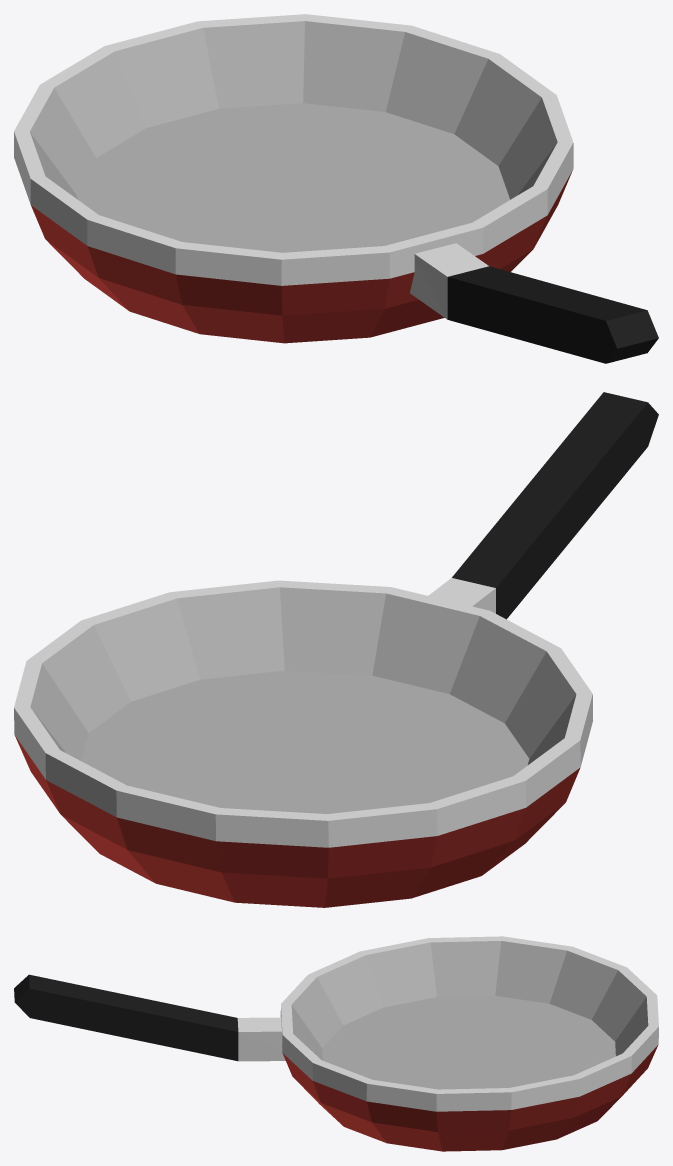
The model's file is SM_kitchenPan_001.glb.
3 views of the same model, one above another, from view 1: azimuth 30°, elevation 25°; view 2: azimuth 150°, elevation 25°; view 3: azimuth 270°, elevation 25° (orthographic). The views are drawn at different scales.
Parts seen in each view (by area): view 1: SM_kitchenPan_001; view 2: SM_kitchenPan_001; view 3: SM_kitchenPan_001.
Part boxes in pixels (left/top/right/bottom): SM_kitchenPan_001: left=14, top=14, right=658, bottom=363; SM_kitchenPan_001: left=14, top=392, right=658, bottom=907; SM_kitchenPan_001: left=14, top=936, right=658, bottom=1151.
Size of the model in its own units: 0.2937 by 0.0975 by 0.502.
Materials: 1 (1 with a texture image).
